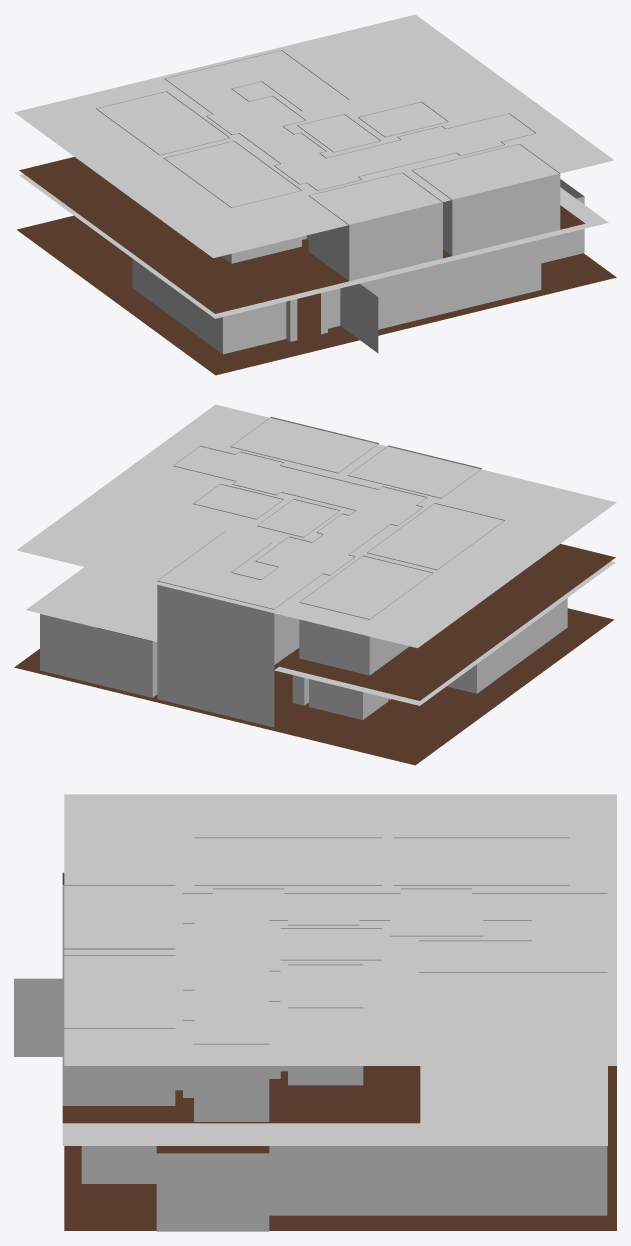
File: House_2.fbx
3 views of the same model, one above another, from view 1: azimuth 30°, elevation 25°; view 2: azimuth 150°, elevation 25°; view 3: azimuth 270°, elevation 25° (orthographic). The views are drawn at different scales.
Visible parts, largest first — view 1: Hall Entrance to room.030; view 2: Hall Entrance to room.030; view 3: Hall Entrance to room.030.
Boxes of the visible parts, x1,y1,x2,y2 form: Hall Entrance to room.030: [14, 14, 616, 375]; Hall Entrance to room.030: [14, 404, 616, 765]; Hall Entrance to room.030: [14, 794, 616, 1231].
Size of the model in its own units: 1726 by 483 by 1606.
